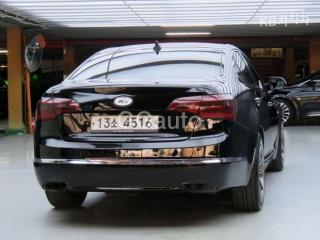1: (97, 117, 104, 129), (138, 117, 145, 128)
3: (104, 117, 111, 129)
4: (122, 117, 131, 129)
5: (129, 117, 138, 128)
6: (145, 117, 154, 129)
plate: (88, 109, 163, 139)
소: (111, 117, 118, 129)
